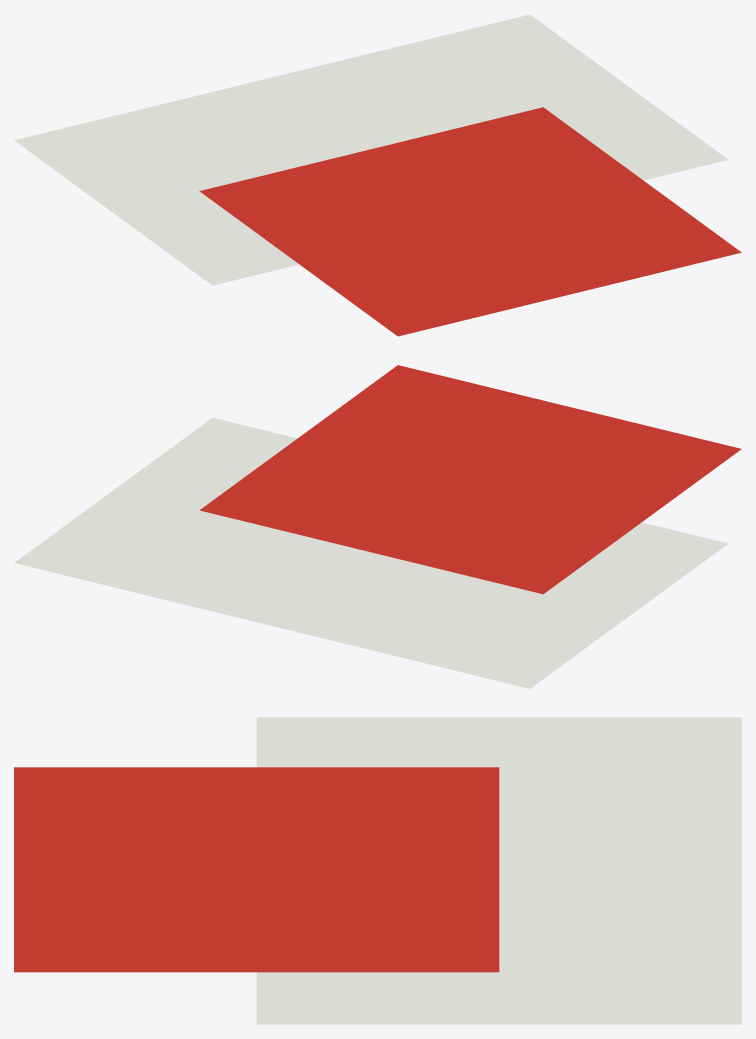
Rendered from sample.glb.
The picture shows the model from 3 angles, top to bottom: view 1: azimuth 30°, elevation 25°; view 2: azimuth 150°, elevation 25°; view 3: azimuth 270°, elevation 25°; orthographic projection. The views are drawn at different scales.
Parts seen in each view (by area): view 1: tab, panel; view 2: panel, tab; view 3: panel, tab.
Boxes of the visible parts, left/top/right/bottom form: tab: left=199, top=107, right=741, bottom=336; panel: left=14, top=14, right=728, bottom=285; panel: left=14, top=417, right=728, bottom=688; tab: left=199, top=365, right=741, bottom=594; panel: left=256, top=717, right=741, bottom=1024; tab: left=14, top=767, right=499, bottom=972.
Bounding box in the file's own units: 0.06 × 0.0001 × 0.06.
